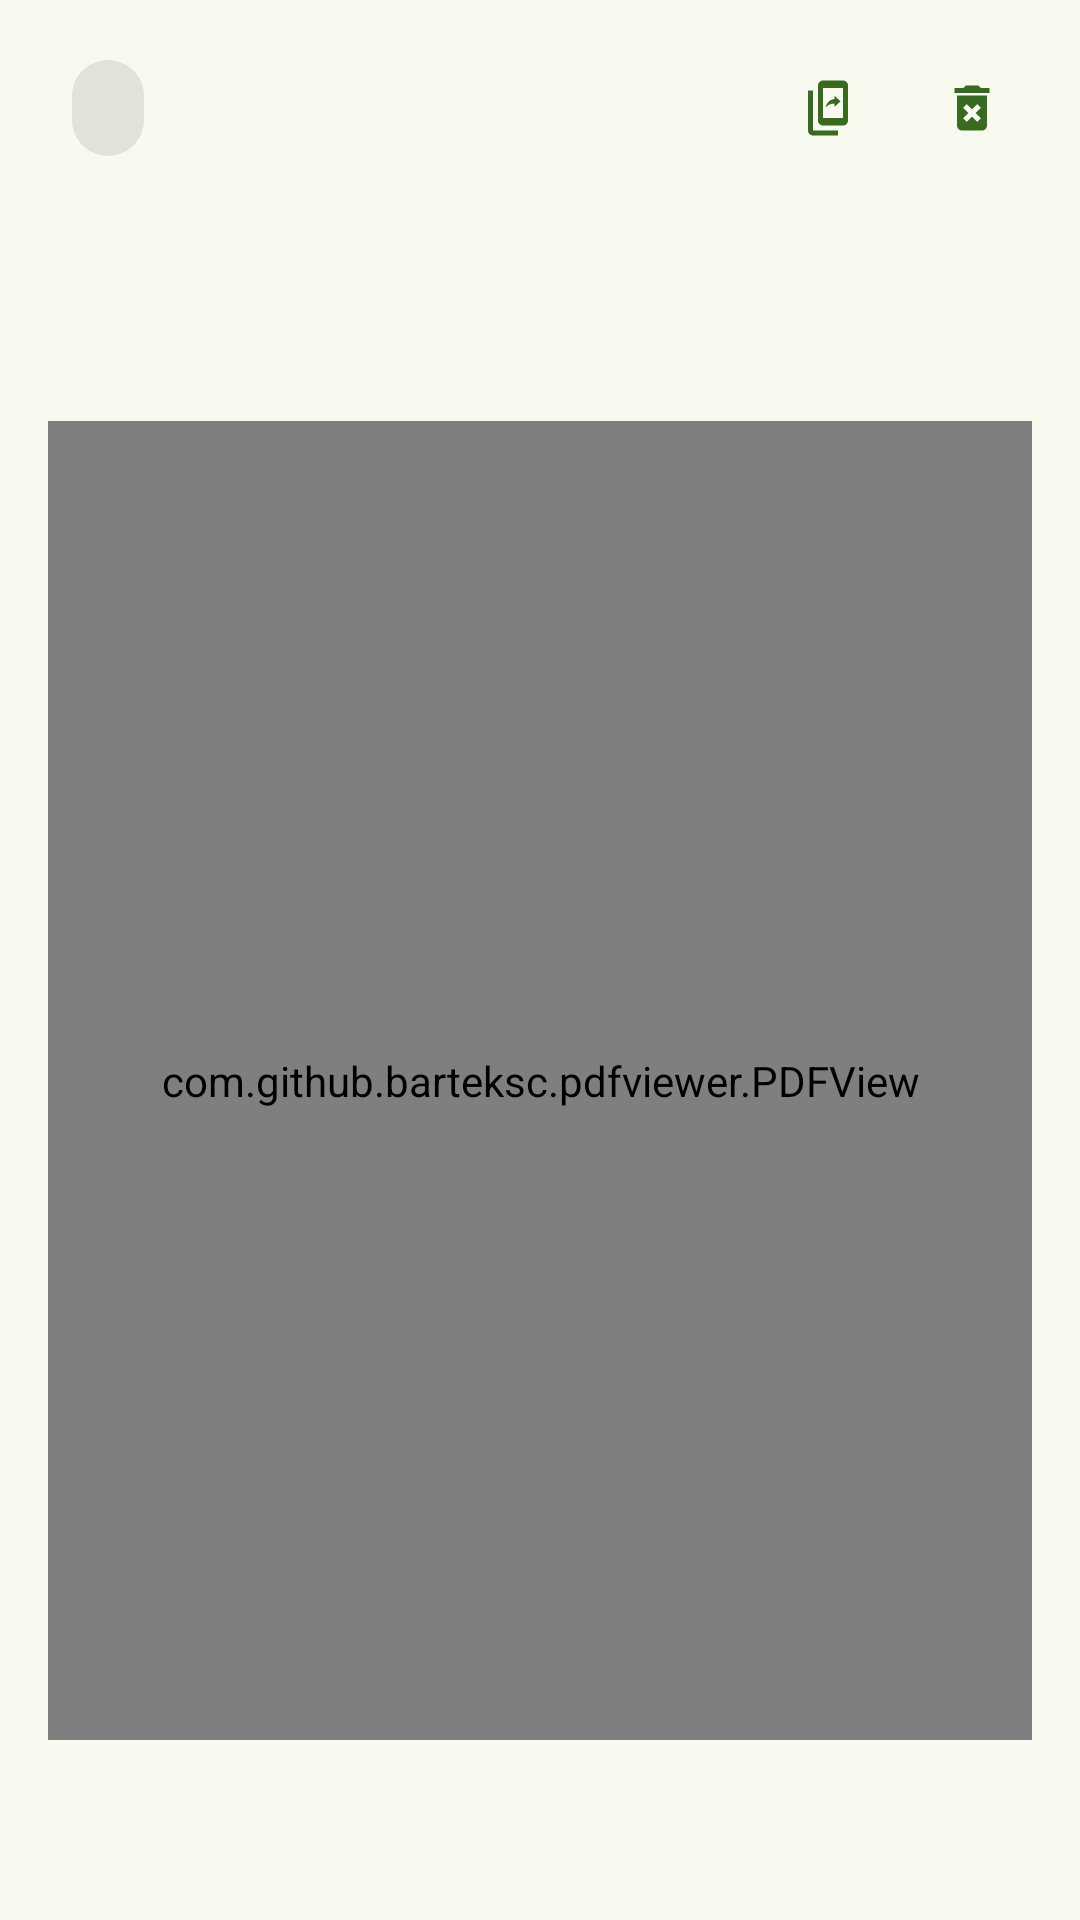

Icons on this 1080*1920 Android screen, each with its box as region(x1, y1, x2, y2):
delete: region(954, 85, 990, 131)
